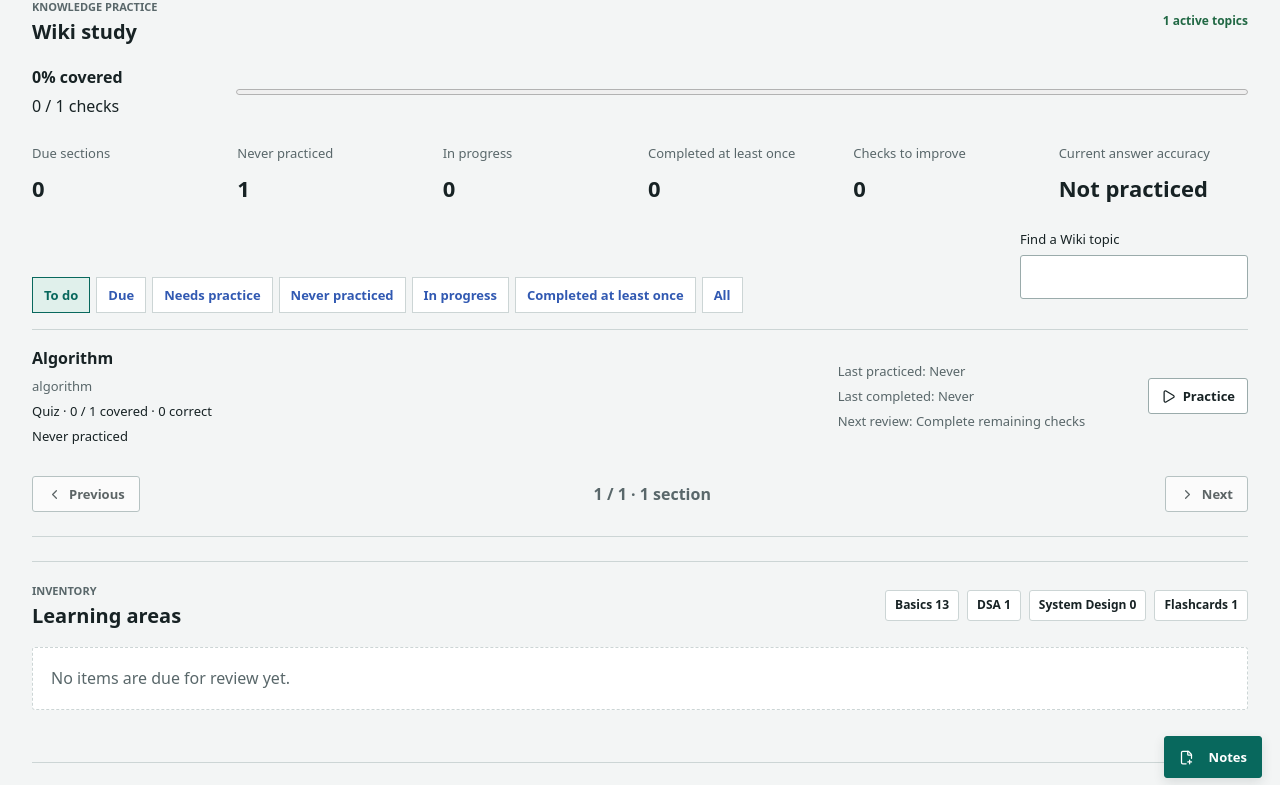
it: App › opens the exact Wiki quiz player from Overview
The width and height of the screenshot is (1280, 785).
(page scrolled)
What coordinates should you click on to do the following:
click the button "Practice"
I would click on:
 (1198, 396)
Its box is [1148,378,1248,414].
(page scrolled)
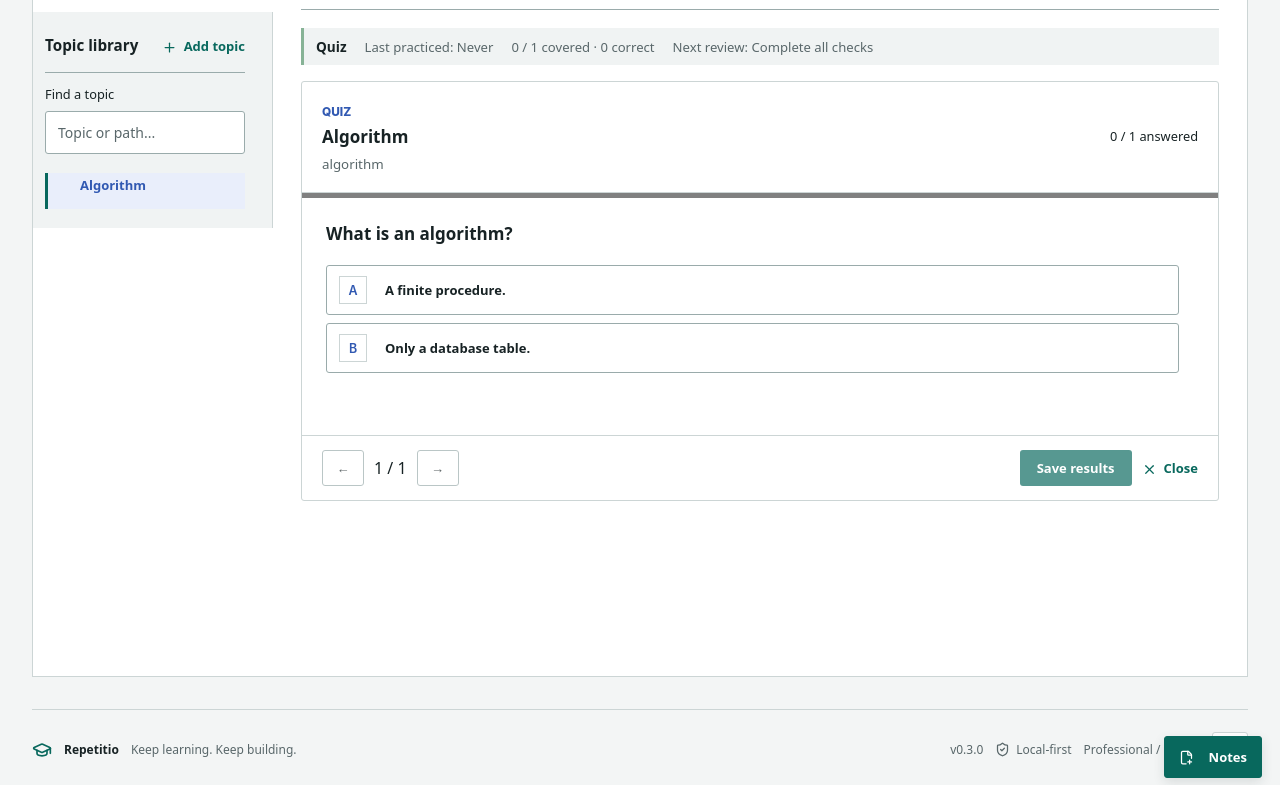
Check: the heading "What is an algorithm?" is shown, box [326,222,513,245]
